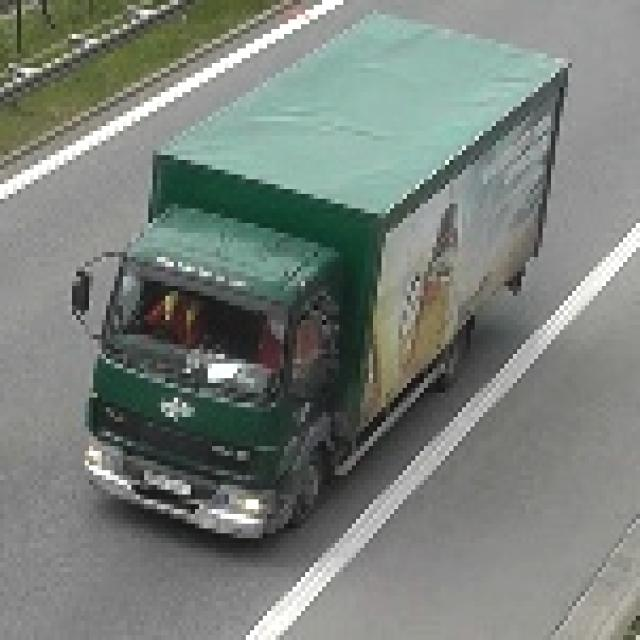truck: (69, 6, 565, 544)
